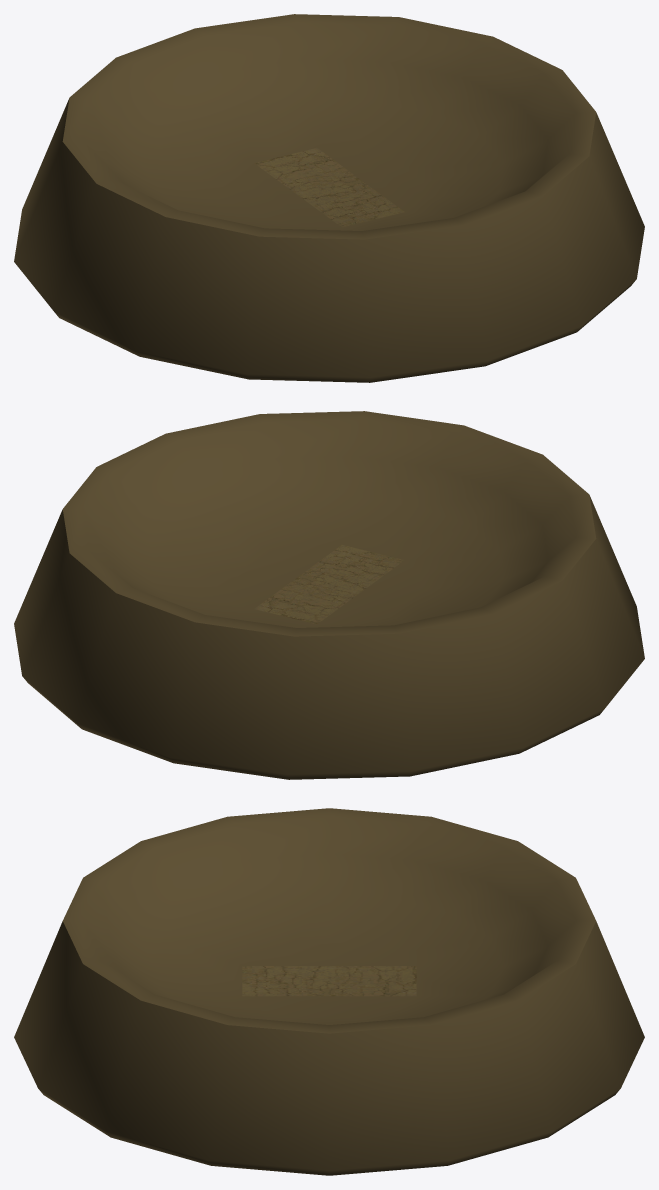
3 renders of one model, top to bottom at view 1: azimuth 30°, elevation 25°; view 2: azimuth 150°, elevation 25°; view 3: azimuth 270°, elevation 25°, orthographic.
Parts seen in each view (by area): view 1: Joint_0_Object_0; view 2: Joint_0_Object_0; view 3: Joint_0_Object_0.
Boxes of the visible parts, x1=… form: Joint_0_Object_0: x1=14, y1=14, x2=644, y2=382; Joint_0_Object_0: x1=14, y1=411, x2=644, y2=779; Joint_0_Object_0: x1=14, y1=808, x2=644, y2=1175.
Size of the model in its own units: 461 by 100 by 461.
